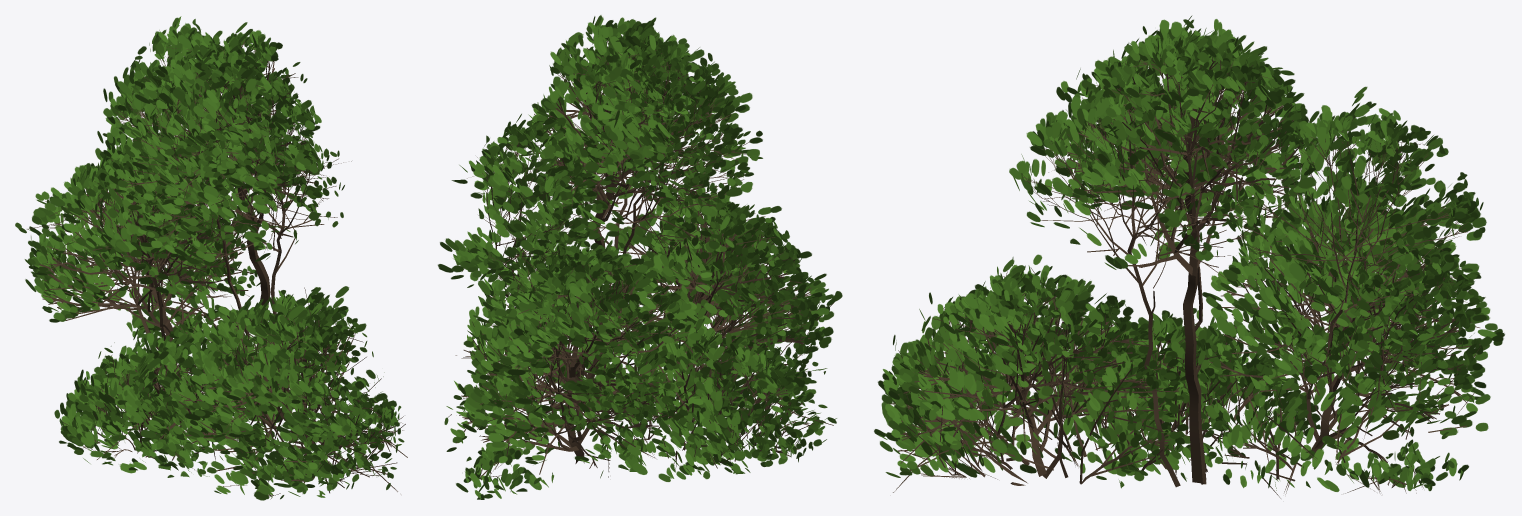
3 renders of one model, left to right at view 1: azimuth 30°, elevation 25°; view 2: azimuth 150°, elevation 25°; view 3: azimuth 270°, elevation 25°, orthographic. The views are drawn at different scales.
Parts seen in each view (by area): view 1: oak 01.001_trunk_Mat.001_0.371; view 2: oak 01.001_trunk_Mat.001_0.371; view 3: oak 01.001_trunk_Mat.001_0.371.
Part boxes in pixels (box(x1,y1,x2,y2)): oak 01.001_trunk_Mat.001_0.371: box(15, 16, 407, 500); oak 01.001_trunk_Mat.001_0.371: box(438, 15, 842, 499); oak 01.001_trunk_Mat.001_0.371: box(874, 15, 1504, 498).
Size of the model in its own units: 2.99 by 4.5 by 5.64.
Materials: 2 (1 with a texture image).
